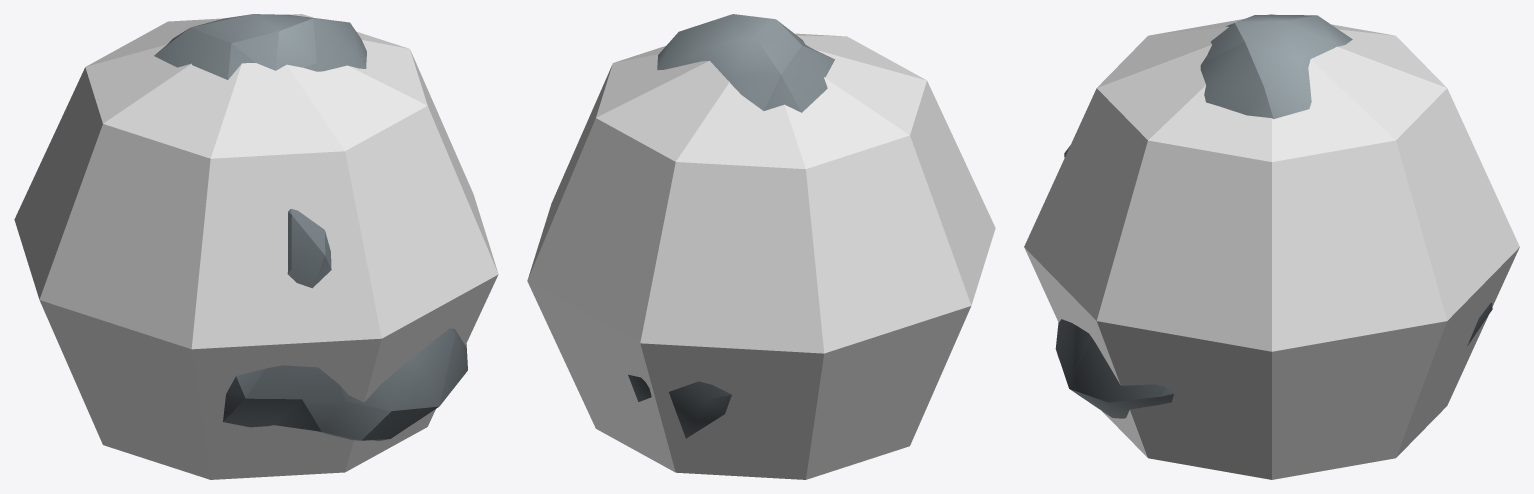
The model's file is stone_1.glb.
3 views of the same model, side by side, from view 1: azimuth 30°, elevation 25°; view 2: azimuth 150°, elevation 25°; view 3: azimuth 270°, elevation 25° (orthographic). The views are drawn at different scales.
Visible parts, largest first — view 1: COL_SPHERE_00.004, Rock_3_M_Color1; view 2: COL_SPHERE_00.004, Rock_3_M_Color1; view 3: COL_SPHERE_00.004, Rock_3_M_Color1.
Part boxes in pixels (left/top/right/bottom): COL_SPHERE_00.004: left=14, top=14, right=498, bottom=479; Rock_3_M_Color1: left=154, top=14, right=467, bottom=441; COL_SPHERE_00.004: left=527, top=33, right=995, bottom=479; Rock_3_M_Color1: left=628, top=14, right=834, bottom=438; COL_SPHERE_00.004: left=1024, top=14, right=1519, bottom=479; Rock_3_M_Color1: left=1055, top=15, right=1492, bottom=418.
Size of the model in its own units: 3.9 by 3.91 by 3.9.
Materials: 1 (1 with a texture image).
